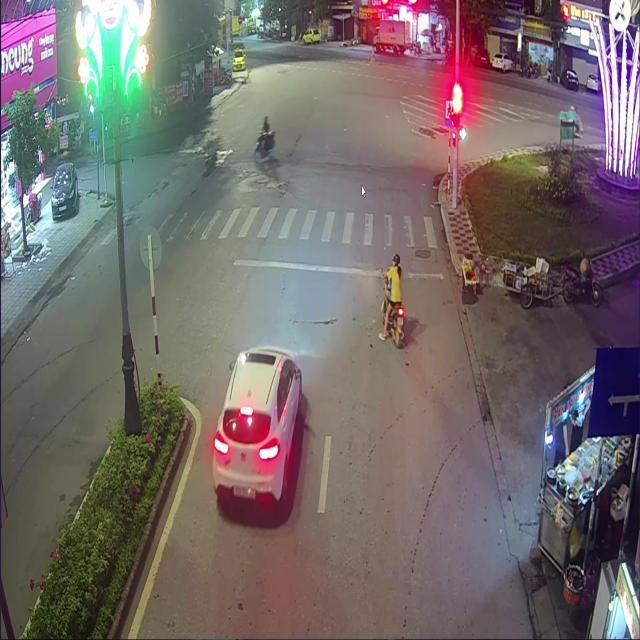car: (212, 346, 302, 500)
motobike: (377, 293, 404, 347)
red_light: (452, 97, 459, 127)
stop_line: (231, 258, 442, 280)
